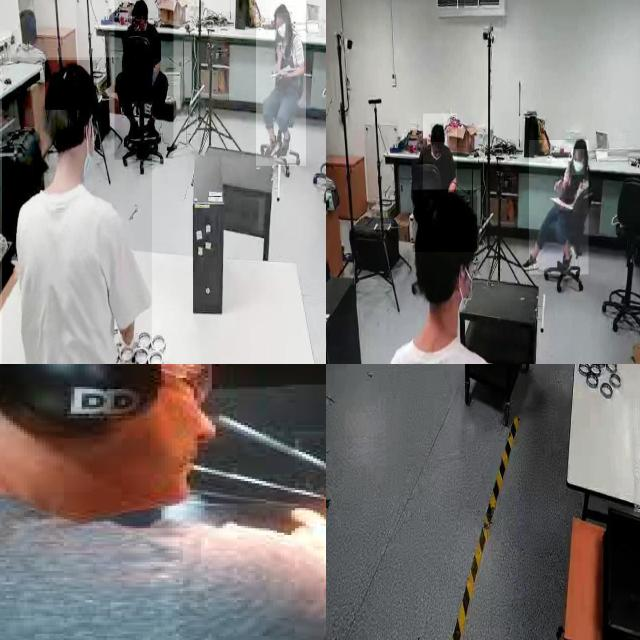Ear-protection: (0, 364, 161, 438)
face_mask: (276, 13, 288, 45), (572, 149, 584, 175)
face_nomask: (132, 17, 145, 31)
hand_noglove: (276, 43, 284, 61), (554, 178, 564, 192), (277, 70, 289, 81)
head_nohelmet: (412, 190, 478, 253), (45, 60, 97, 111), (131, 0, 148, 17), (430, 123, 444, 143), (273, 3, 289, 17), (573, 136, 587, 150)
person: (0, 364, 326, 640), (1, 57, 152, 364), (379, 193, 520, 364), (114, 0, 173, 159), (255, 0, 306, 167), (529, 140, 589, 275), (423, 113, 457, 190)
shoes: (143, 113, 165, 147), (260, 134, 281, 162), (279, 124, 294, 161), (123, 117, 141, 147), (560, 243, 574, 275), (522, 253, 538, 273)
